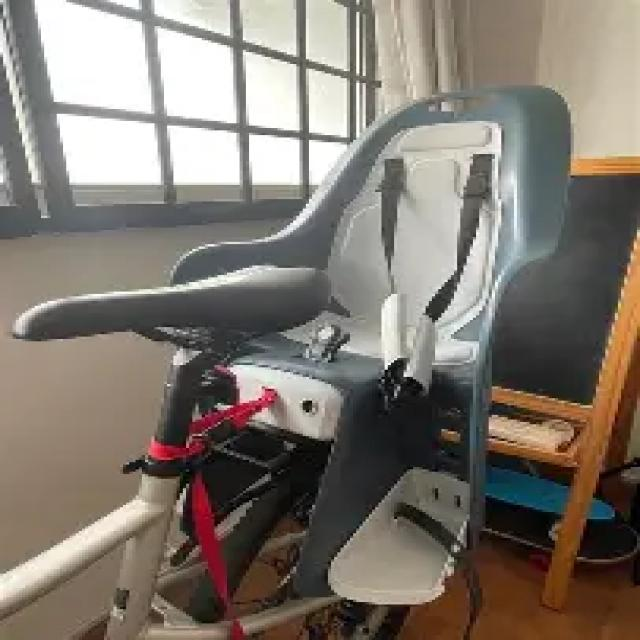childseat: (223, 79, 590, 594)
